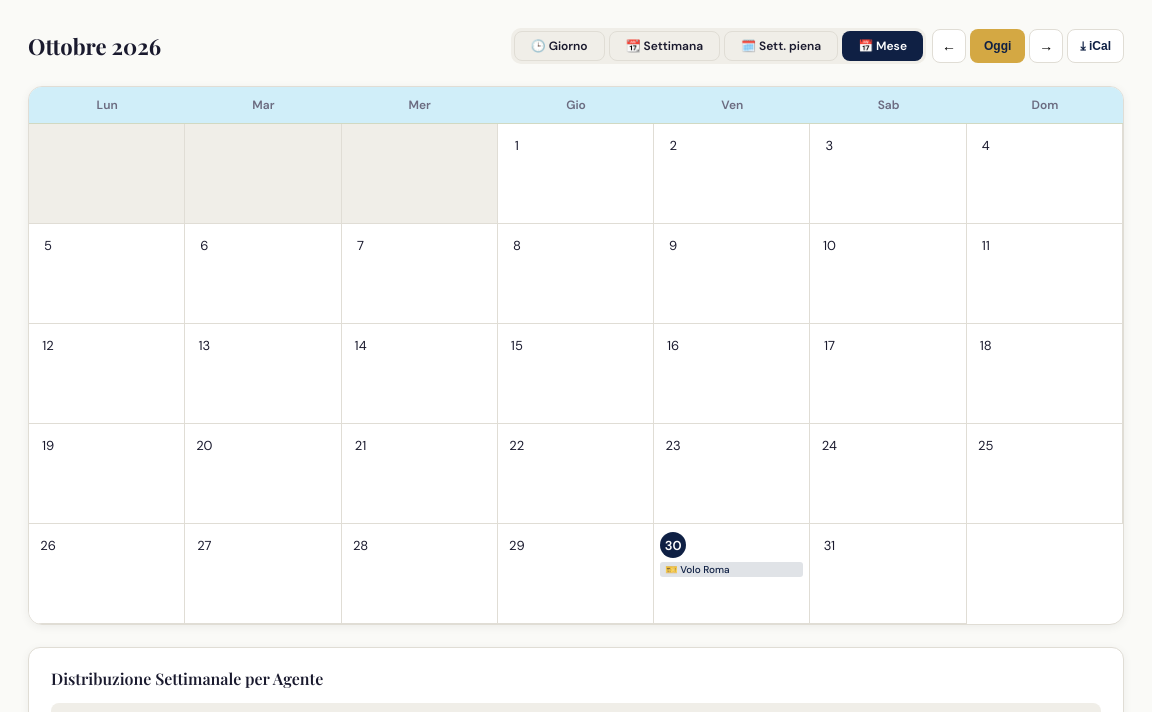
CalendarPlanner — le quattro viste montano e mostrano i task › settimana: il task compare nella colonna del suo giorno
What coordinates should you click on to do the following:
click the button "📆 Settimana"
I would click on:
 (664, 46)
Its box is [609,31,720,61].
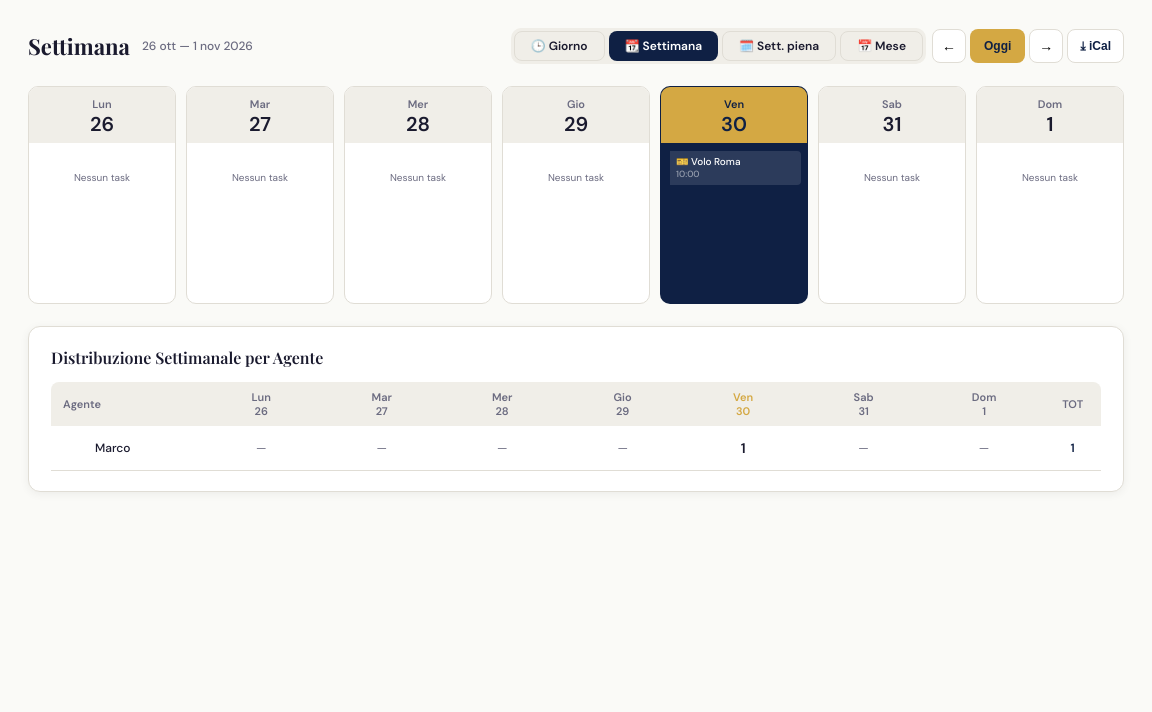
Expected: the button "🎫 Volo Roma 10:00" is shown, [667,151,801,185]
